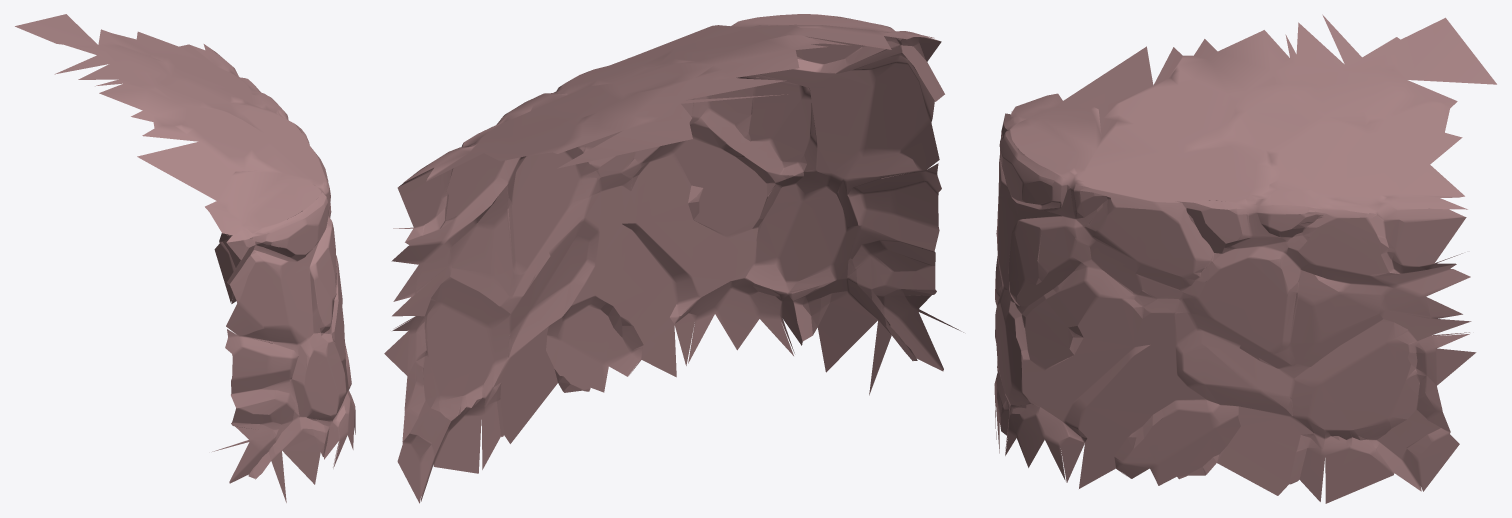
The model's file is plateau.fbx_Rock_Plateau_003LODs.fbx.
3 views of the same model, side by side, from view 1: azimuth 30°, elevation 25°; view 2: azimuth 150°, elevation 25°; view 3: azimuth 270°, elevation 25° (orthographic). The views are drawn at different scales.
Parts seen in each view (by area): view 1: Rock Plateau.003_LOD0; view 2: Rock Plateau.003_LOD0; view 3: Rock Plateau.003_LOD0.
Part boxes in pixels (x1,y1,x2,y2): Rock Plateau.003_LOD0: [15, 14, 355, 502]; Rock Plateau.003_LOD0: [384, 14, 963, 503]; Rock Plateau.003_LOD0: [994, 14, 1496, 503].
Size of what is drawn, in the model's own units: 2809 by 4162 by 4830.
